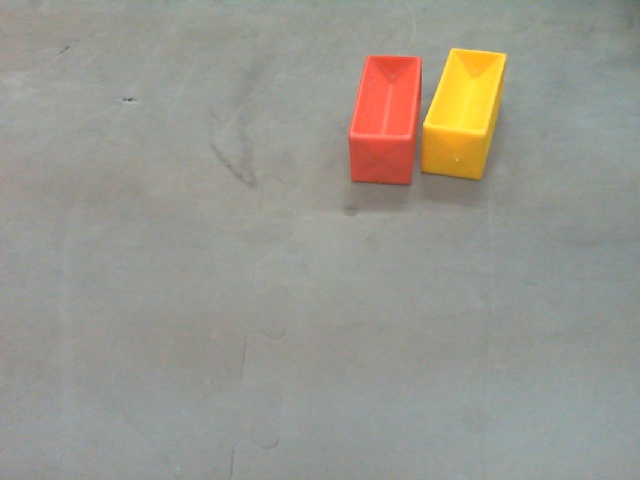RedSample: (346, 51, 425, 185)
YellowSample: (418, 49, 506, 178)
